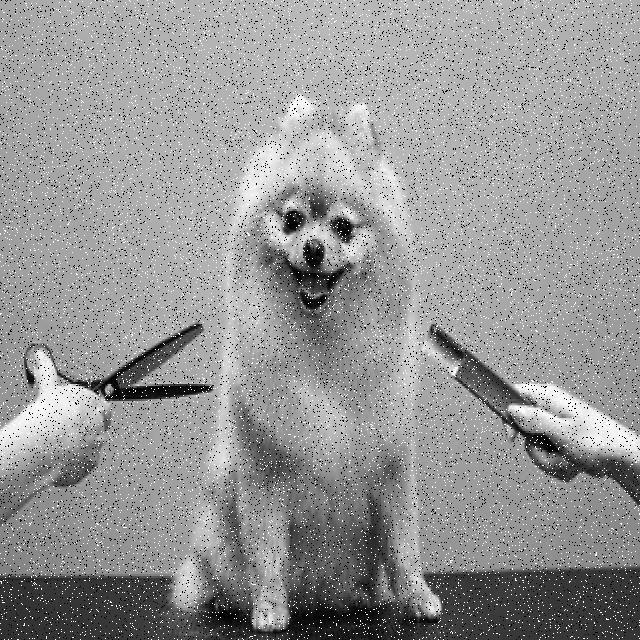scissors: (22, 313, 215, 434)
